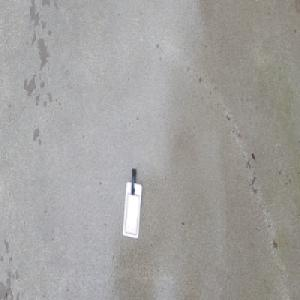LuggageTag: (121, 166, 142, 238)
